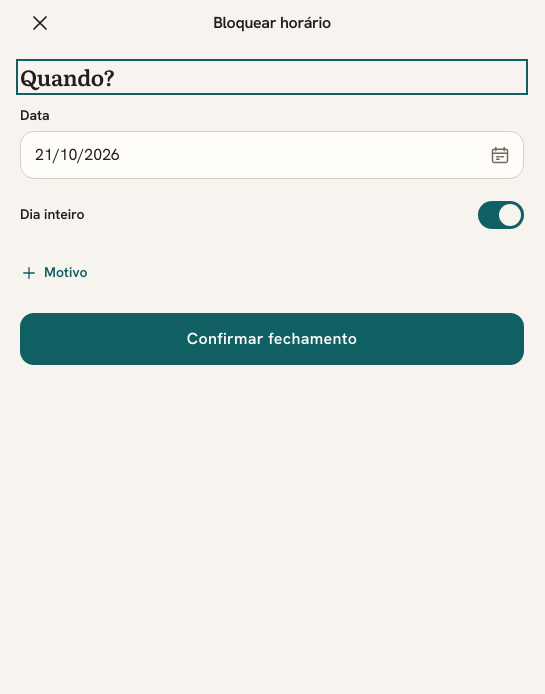
Test: nenhum campo decidedBy existe em formulário algum › nem no formulário de criação nem no painel de conflito
The image size is (545, 694).
Check: the switch named "Dia inteiro" is checked, box 478,200 -> 524,228
Click the button "Confirmar fechamento".
click(272, 338)  # box 20,312 -> 524,364
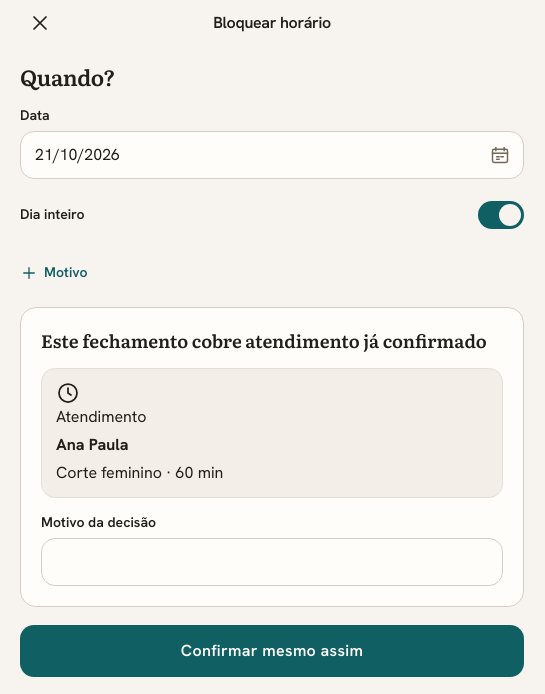
Check: the heading "Este fechamento cobre atendimento já confirmado" is shown, box 41,328 -> 503,354
